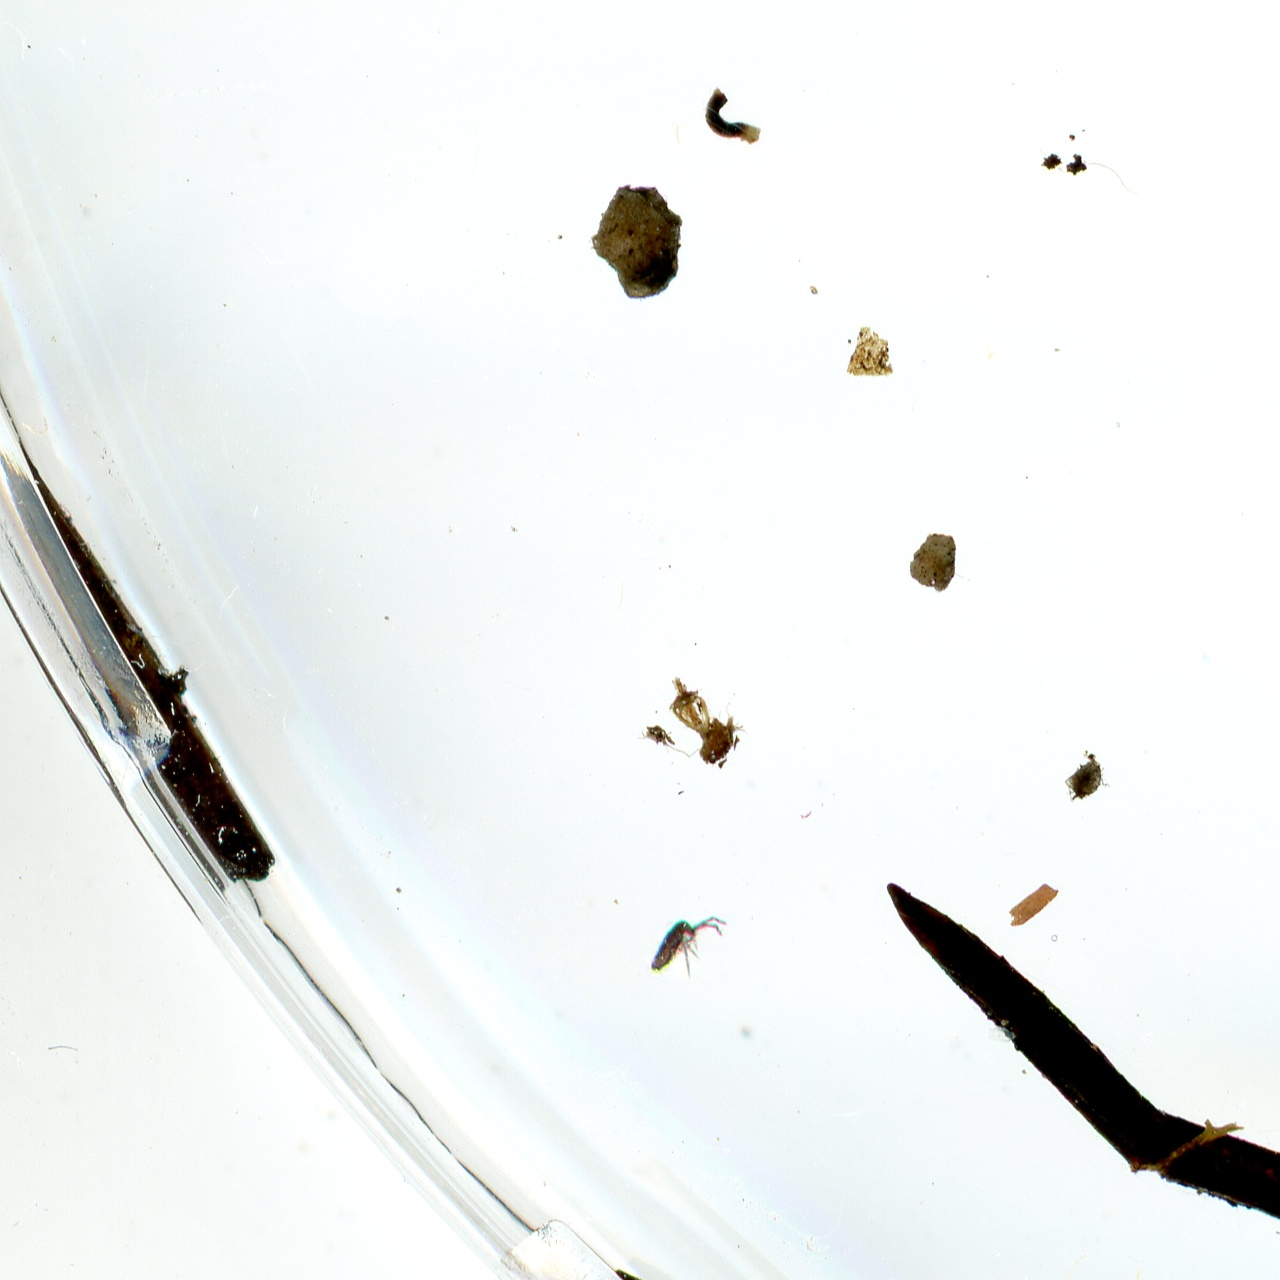arthropod: (633, 892, 736, 1000)
